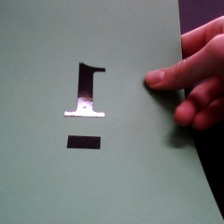green1: (55, 56, 116, 153)
